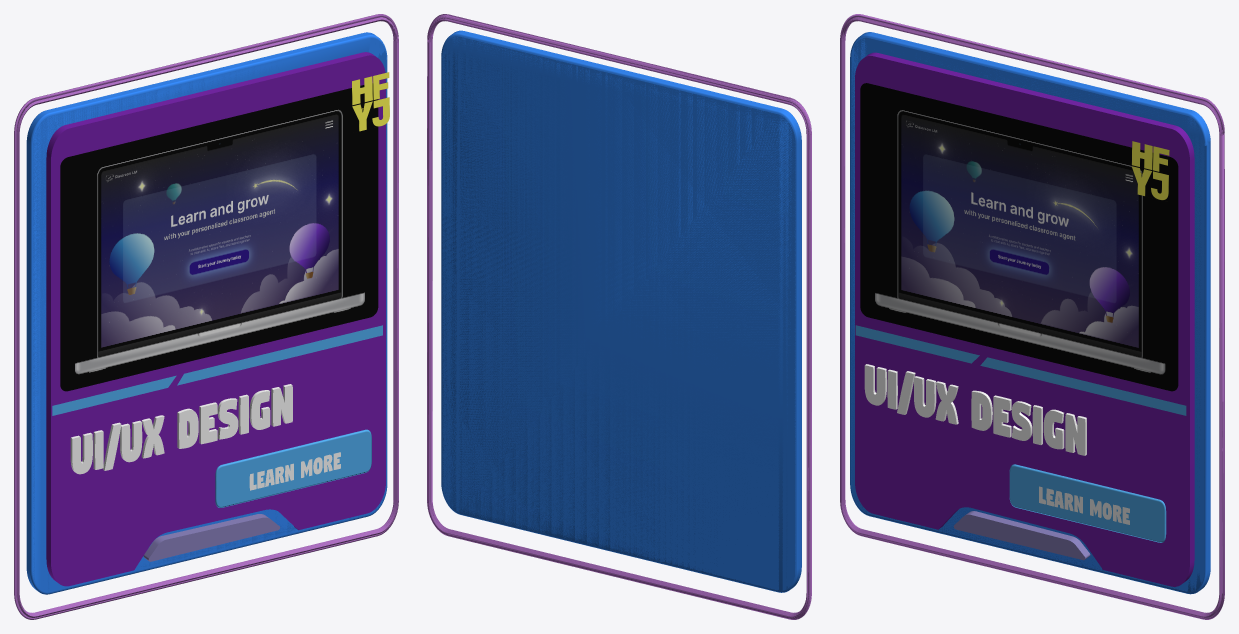
Rendered from uiux.glb.
3 views of the same model, side by side, from view 1: azimuth 30°, elevation 25°; view 2: azimuth 150°, elevation 25°; view 3: azimuth 330°, elevation 25° (orthographic).
Parts seen in each view (by area): view 1: ra sm.jpg, Boolean, Rectangle, Rectangle 6, Text, Rectangle 8, Shape, Rectangle 7, Logo V1.png, Rectangle 9, Text 3; view 2: Rectangle, Rectangle 6; view 3: ra sm.jpg, Boolean, Rectangle, Rectangle 6, Text, Rectangle 8, Shape, Rectangle 7, Logo V1.png, Rectangle 9, Text 3.
Part boxes in pixels (bbox=[...]): ra sm.jpg: bbox=[60, 83, 378, 391]; Boolean: bbox=[46, 52, 385, 586]; Rectangle: bbox=[26, 32, 387, 594]; Rectangle 6: bbox=[14, 14, 398, 619]; Text: bbox=[70, 384, 292, 474]; Rectangle 8: bbox=[215, 429, 371, 507]; Shape: bbox=[143, 514, 280, 561]; Rectangle 7: bbox=[177, 325, 382, 385]; Logo V1.png: bbox=[352, 72, 389, 131]; Rectangle 9: bbox=[52, 375, 176, 415]; Text 3: bbox=[249, 452, 340, 490]; Rectangle: bbox=[441, 30, 801, 592]; Rectangle 6: bbox=[427, 14, 811, 619]; ra sm.jpg: bbox=[860, 83, 1178, 391]; Boolean: bbox=[855, 52, 1194, 586]; Rectangle: bbox=[850, 32, 1210, 594]; Rectangle 6: bbox=[840, 14, 1224, 619]; Text: bbox=[864, 364, 1086, 455]; Rectangle 8: bbox=[1009, 464, 1166, 542]; Shape: bbox=[953, 511, 1090, 560]; Rectangle 7: bbox=[980, 357, 1186, 415]; Logo V1.png: bbox=[1131, 141, 1169, 200]; Rectangle 9: bbox=[855, 325, 979, 363]; Text 3: bbox=[1039, 486, 1129, 524].
Size of the model in its own units: 4.27 by 5.55 by 0.4878.
9 materials, 2 textured.
